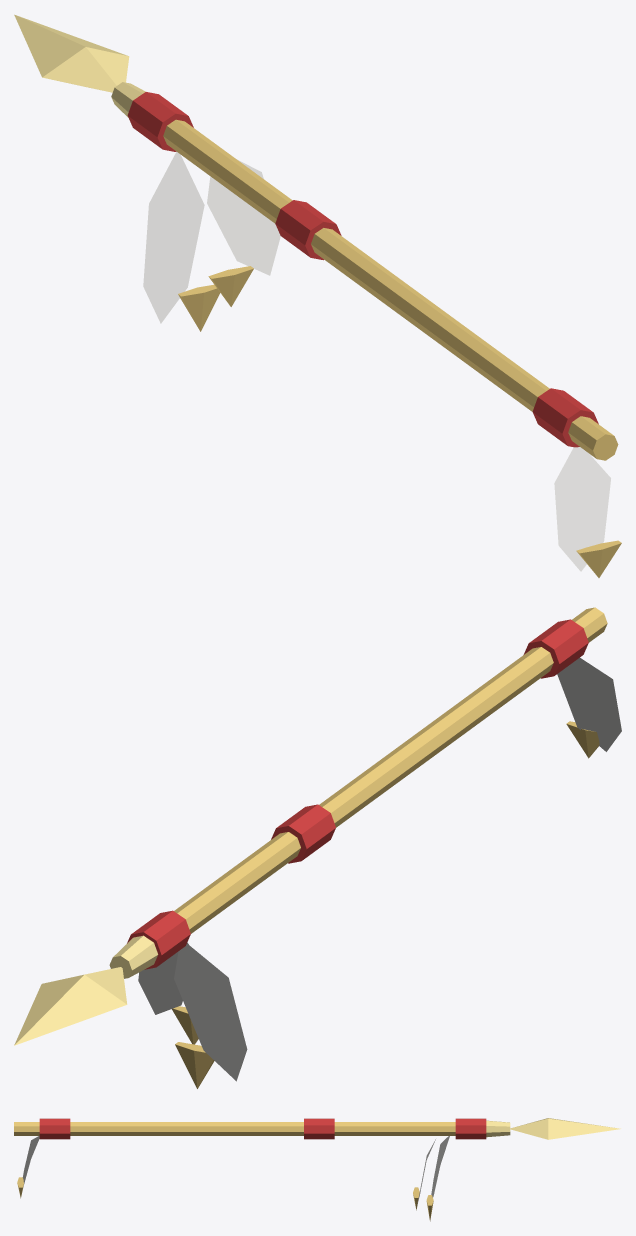
Rendered from war_lance.glb.
3 renders of one model, top to bottom at view 1: azimuth 30°, elevation 25°; view 2: azimuth 150°, elevation 25°; view 3: azimuth 270°, elevation 25°, orthographic. The views are drawn at different scales.
Parts seen in each view (by area): view 1: Spear; view 2: Spear; view 3: Spear.
Part boxes in pixels (x1,y1,x2,y2): Spear: (14, 14, 621, 577); Spear: (14, 607, 621, 1088); Spear: (14, 1118, 620, 1221).
Size of the model in its own units: 0.2162 by 0.3344 by 1.78.
